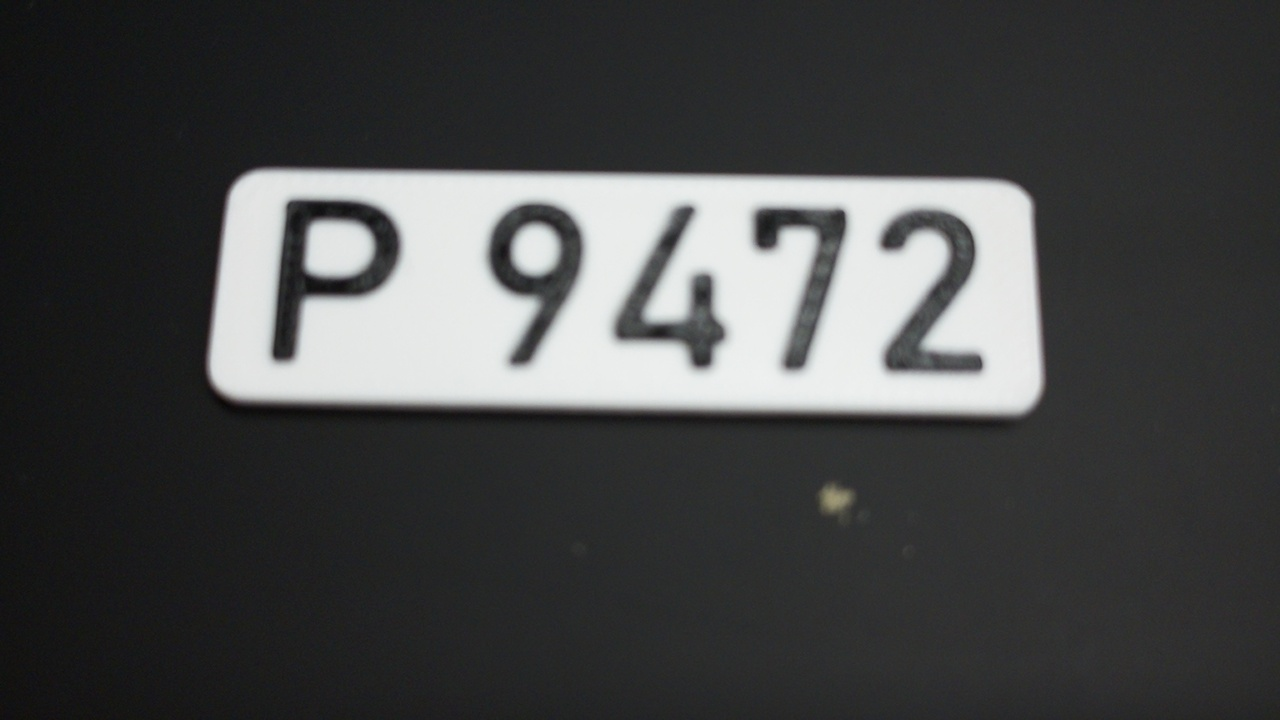license_plate: (207, 160, 1050, 422)
